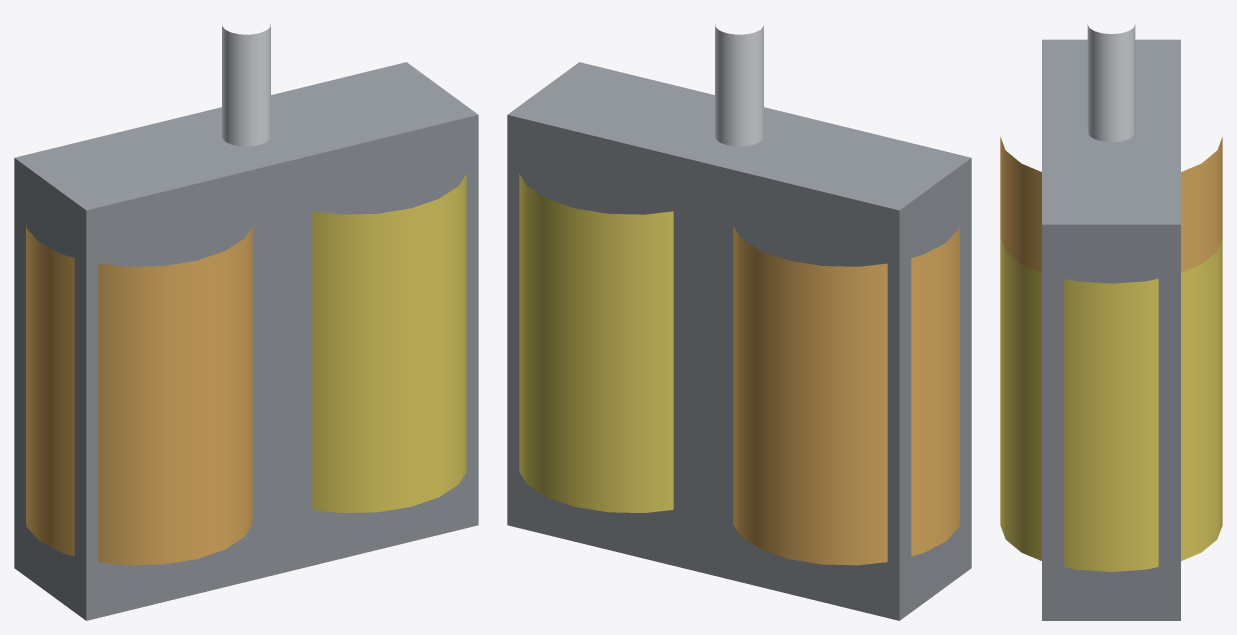
File: transformer_equivalent_circuit_regulation.glb
3 views of the same model, side by side, from view 1: azimuth 30°, elevation 25°; view 2: azimuth 150°, elevation 25°; view 3: azimuth 270°, elevation 25° (orthographic). The views are drawn at different scales.
Parts seen in each view (by area): view 1: LaminatedSiliconSteelCore, PrimaryHighVoltageWinding, SecondaryLowVoltageWinding, MultiTapTerminalBushingPost; view 2: LaminatedSiliconSteelCore, PrimaryHighVoltageWinding, SecondaryLowVoltageWinding, MultiTapTerminalBushingPost; view 3: SecondaryLowVoltageWinding, LaminatedSiliconSteelCore, PrimaryHighVoltageWinding, MultiTapTerminalBushingPost.
Part boxes in pixels (x1=…): LaminatedSiliconSteelCore: x1=14, y1=62, x2=478, y2=620; PrimaryHighVoltageWinding: x1=26, y1=224, x2=252, y2=565; SecondaryLowVoltageWinding: x1=312, y1=174, x2=466, y2=512; MultiTapTerminalBushingPost: x1=222, y1=24, x2=270, y2=146; LaminatedSiliconSteelCore: x1=507, y1=62, x2=971, y2=620; PrimaryHighVoltageWinding: x1=733, y1=224, x2=959, y2=565; SecondaryLowVoltageWinding: x1=519, y1=174, x2=673, y2=512; MultiTapTerminalBushingPost: x1=715, y1=24, x2=763, y2=146; SecondaryLowVoltageWinding: x1=1000, y1=238, x2=1222, y2=571; LaminatedSiliconSteelCore: x1=1042, y1=39, x2=1180, y2=620; PrimaryHighVoltageWinding: x1=1000, y1=137, x2=1222, y2=272; MultiTapTerminalBushingPost: x1=1087, y1=24, x2=1135, y2=142.
Size of the model in its own units: 1.16 by 1.4 by 0.56.
